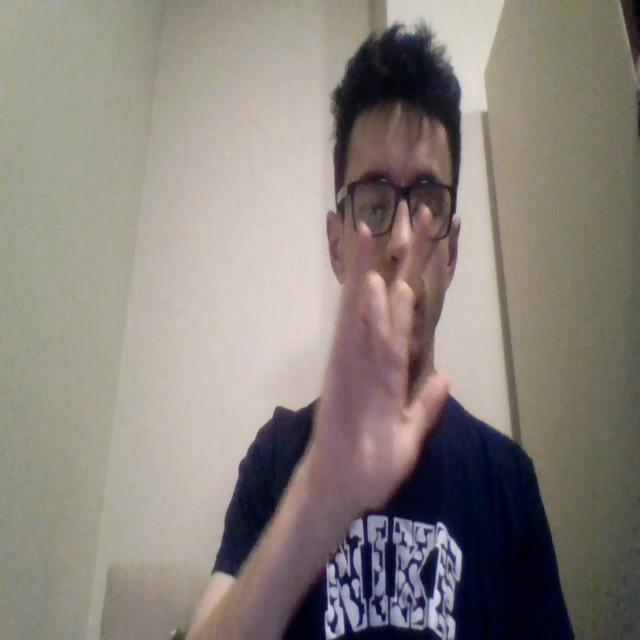iloveyou: (312, 228, 451, 518)
